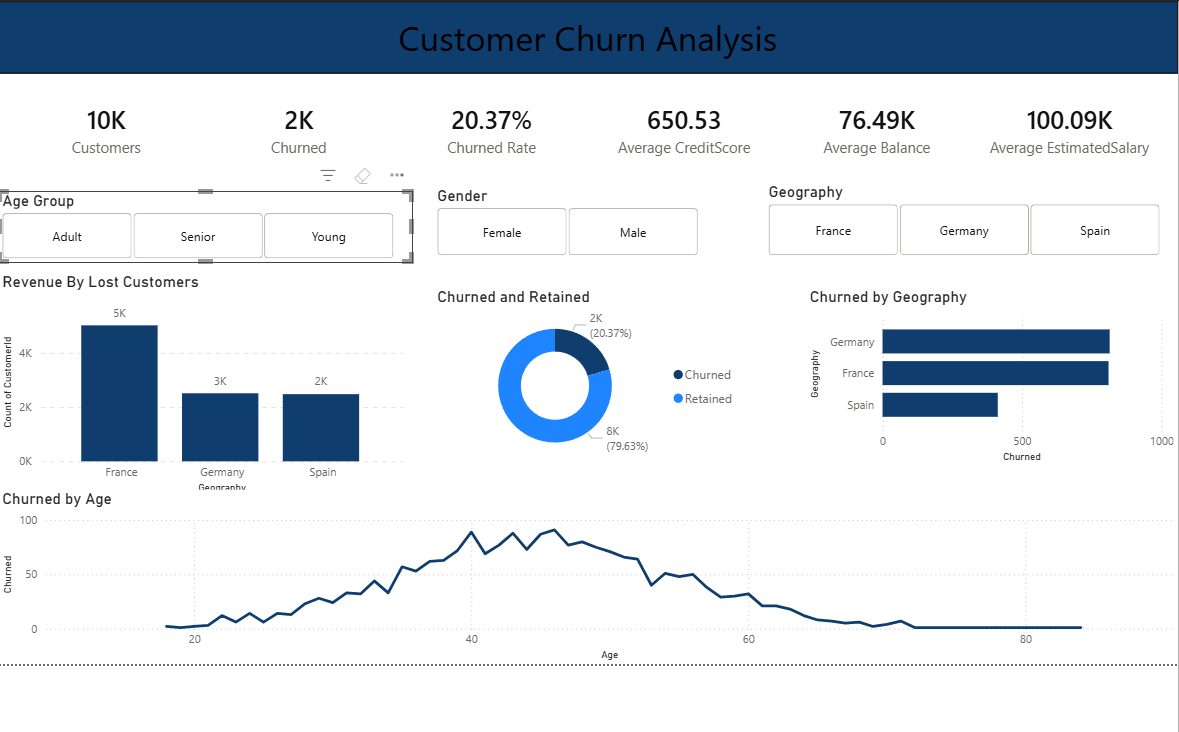

What the dashboard file says about the page in this screenshot:
{"tool":"powerbi","page":{"name":"Executive Overview","canvas":[1280,720],"ordinal":0},"visuals":[{"type":"shape","box":[0,0,1280,79],"z":0},{"type":"columnChart","title":"Revenue By Lost Customers","fields":{"Y":["CountNonNull(Bank_Churn.CustomerId)"],"Category":["Bank_Churn.Geography"]},"box":[0,294.2,445.4,245.2],"z":1000},{"type":"donutChart","fields":{"Y":["Bank_Churn.Churned","Bank_Churn.Retained"]},"box":[472.6,310.5,339.1,194.8],"z":2000},{"type":"cardVisual","fields":{"Data":["CountNonNull(Bank_Churn.CustomerId)","Bank_Churn.Churned","Sum(Bank_Churn.Churned %)","Avg(Bank_Churn.CreditScore)","Avg(Bank_Churn.Balance)","Avg(Bank_Churn.EstimatedSalary)"]},"box":[0,80.4,1280.3,119.9],"z":3000},{"type":"advancedSlicerVisual","fields":{"Values":["Bank_Churn.Gender"]},"box":[472.6,200.2,303.7,80.4],"z":4000},{"type":"advancedSlicerVisual","fields":{"Values":["Bank_Churn.Age Group"]},"box":[0,205.7,450.8,79],"z":5000},{"type":"barChart","fields":{"Y":["Bank_Churn.Churned"],"Category":["Bank_Churn.Geography"]},"box":[875.8,310.5,404.5,194.8],"z":6000},{"type":"advancedSlicerVisual","fields":{"Values":["Bank_Churn.Geography"]},"box":[830.8,196.1,435.8,98.1],"z":7000},{"type":"lineChart","fields":{"Y":["Bank_Churn.Churned"],"Category":["Bank_Churn.Age"]},"box":[0,529.8,1280.3,190.7],"z":8000}]}

Visuals, with their boxes on the page's 1280x720 design canvas (x1, y1, x2, y2). These are canvas units, not pixel positions in the 1179x732 screenshot, which may show the page scaled, cropped or inside an application window:
shape: 0,0,1280,79
"Revenue By Lost Customers" columnChart: 0,294,445,539
donutChart - Bank_Churn.Churned x Bank_Churn.Retained: 473,310,812,505
cardVisual - CountNonNull(Bank_Churn.CustomerId) x Bank_Churn.Churned: 0,80,1280,200
advancedSlicerVisual - Bank_Churn.Gender: 473,200,776,281
advancedSlicerVisual - Bank_Churn.Age Group: 0,206,451,285
barChart - Bank_Churn.Churned x Bank_Churn.Geography: 876,310,1280,505
advancedSlicerVisual - Bank_Churn.Geography: 831,196,1267,294
lineChart - Bank_Churn.Churned x Bank_Churn.Age: 0,530,1280,720
